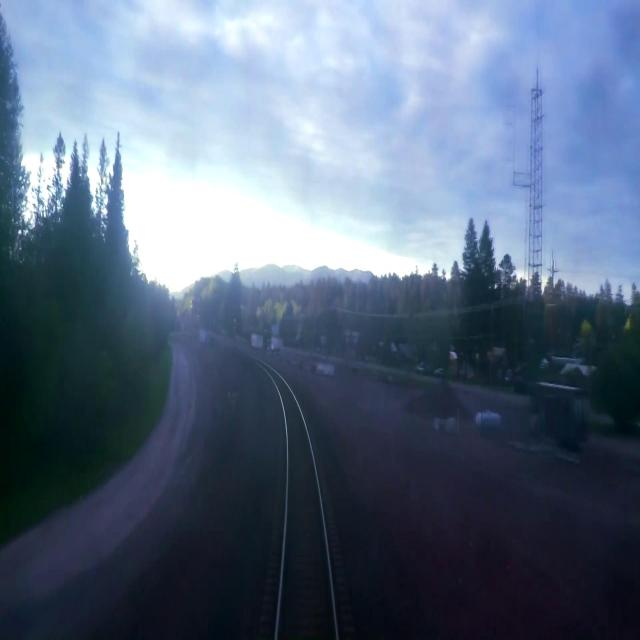rail-track: (270, 371, 334, 639)
